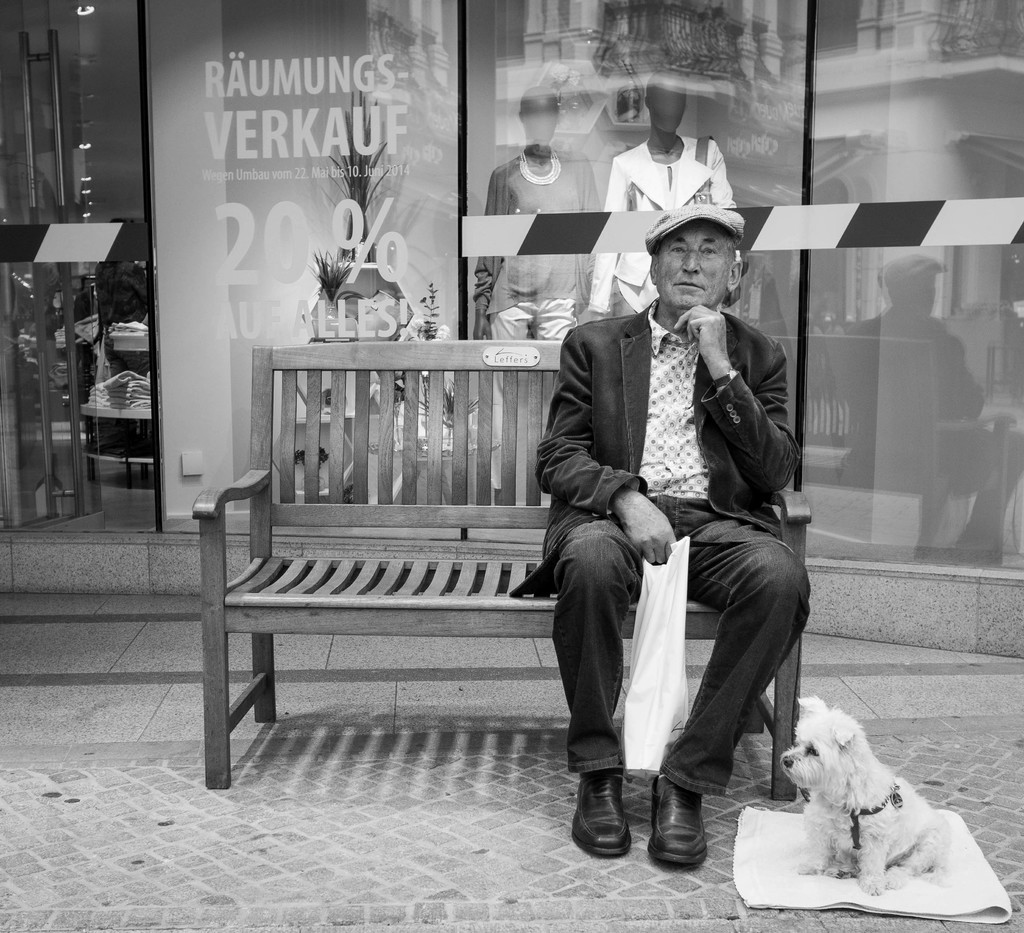Footwear: (577, 768, 682, 872)
